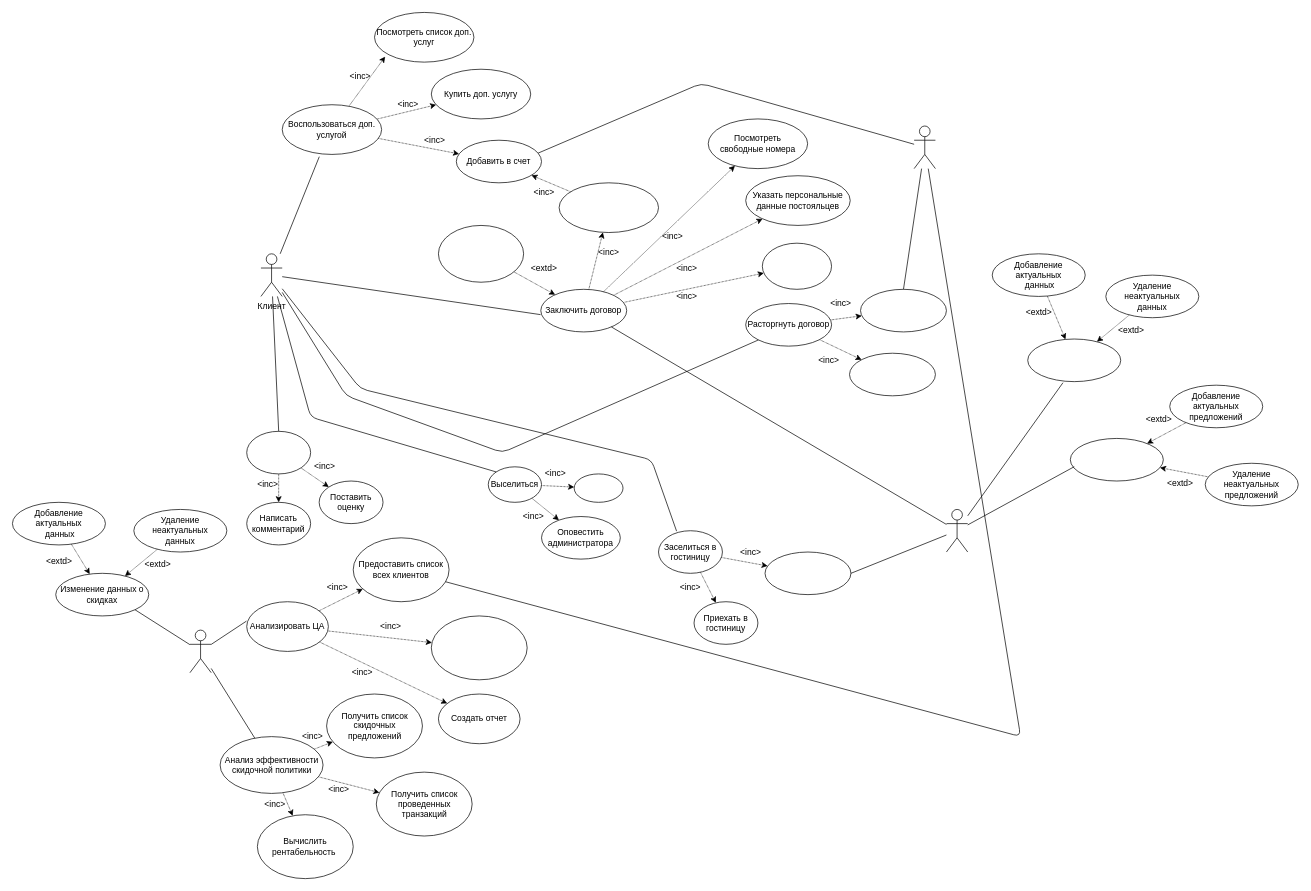
The diagram is 1311 pixels wide and 891 high, and some of its shapes have lost their labels. Each missing label, with the centre of its shape:
Администратор: the point at 957,530
Воспользоваться скидочным предложением: the point at 481,253
Зарегистрировать постояльца: the point at 807,573
Изменение данных о номере: the point at 1116,459
Изменение данных о услугах: the point at 1074,360
Изменение статуса бронирования: the point at 903,310
Маркетолог: the point at 200,651
Написать отзыв: the point at 278,452
Оплатить номер: the point at 608,207
Получить договор: the point at 797,265
Получить счет: the point at 598,487
Разбить постояльцев на возрастные группы: the point at 479,647
СУБД: the point at 924,147
Указать причину расторжения: the point at 892,374
